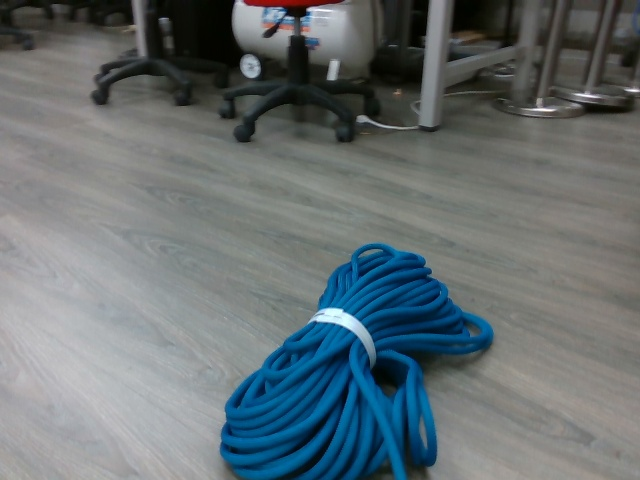rope: (215, 240, 499, 480)
